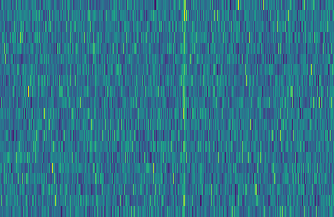signal: (179, 0, 188, 217)
